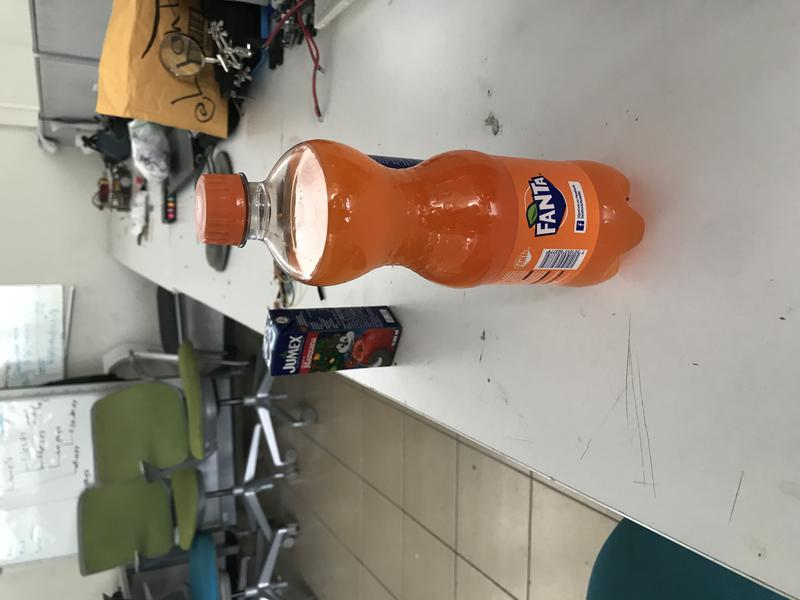fanta: (194, 140, 647, 290)
jumex_cajita: (261, 304, 403, 378)
